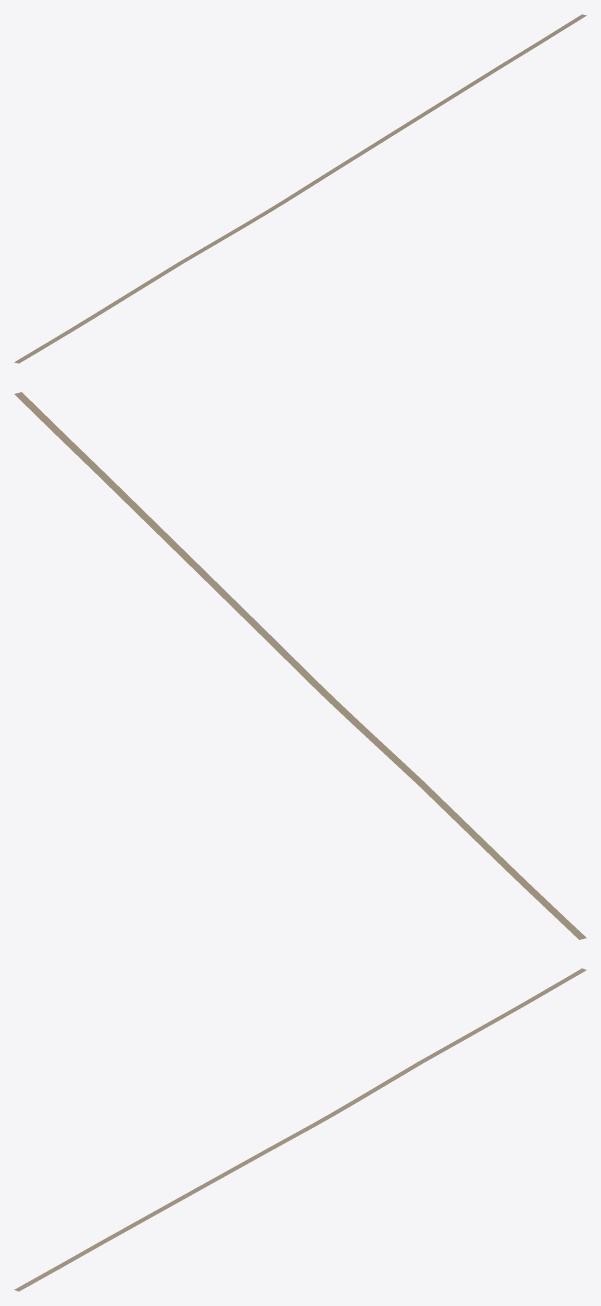
The model's file is farm_-28_-23_track.glb.
3 renders of one model, top to bottom at view 1: azimuth 90°, elevation 25°; view 2: azimuth 150°, elevation 25°; view 3: azimuth 270°, elevation 25°, orthographic. The views are drawn at different scales.
Parts seen in each view (by area): view 1: geometry_0; view 2: geometry_0; view 3: geometry_0.
Boxes of the visible parts, x1,y1,x2,y2 form: geometry_0: (14,14,586,363); geometry_0: (14,392,586,939); geometry_0: (14,968,586,1291).
Size of the model in its own units: 428 by 8.03 by 308.
